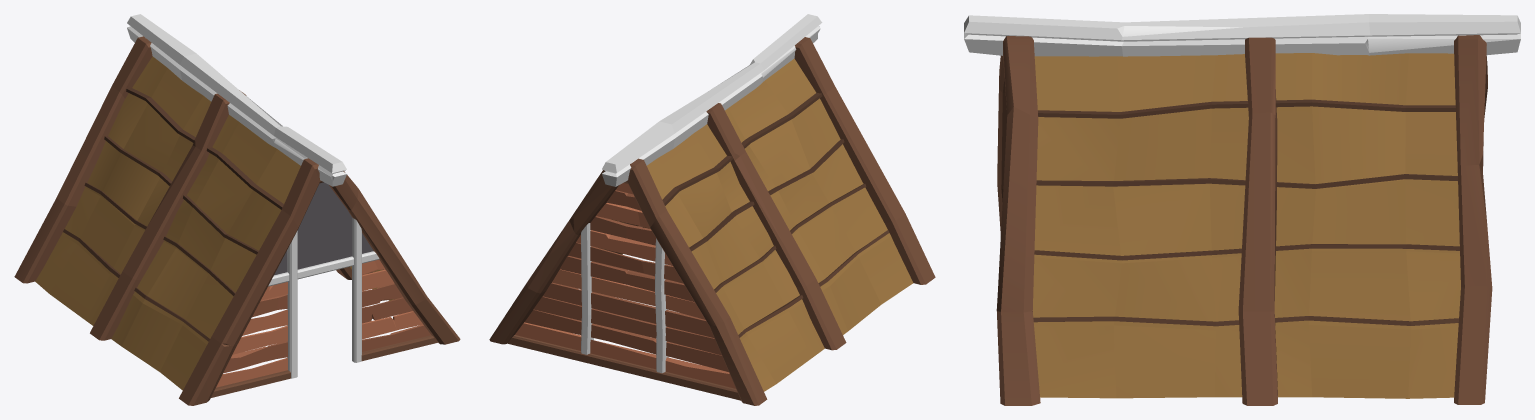
File: Building_2_Wall_On_2.fbx
3 renders of one model, left to right at view 1: azimuth 30°, elevation 25°; view 2: azimuth 150°, elevation 25°; view 3: azimuth 270°, elevation 25°, orthographic. The views are drawn at different scales.
Parts seen in each view (by area): view 1: Building_2_Wall_On_2; view 2: Building_2_Wall_On_2; view 3: Building_2_Wall_On_2.
Part boxes in pixels (x1,y1,x2,y2): Building_2_Wall_On_2: (14,14,460,405); Building_2_Wall_On_2: (489,14,935,405); Building_2_Wall_On_2: (964,14,1520,405).
Bounding box in the file's own units: 6.63 × 5.1 × 8.65.
